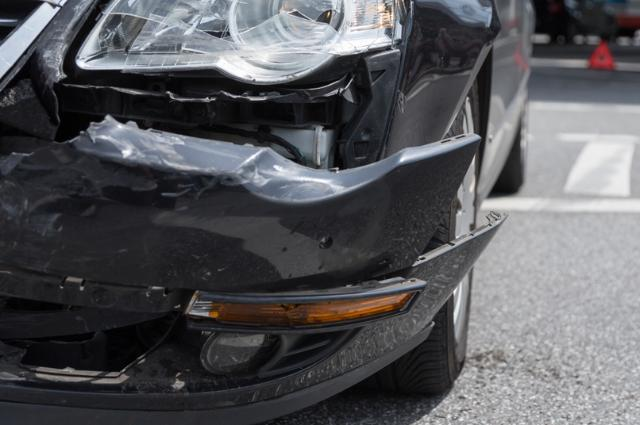Bumper: (0, 105, 595, 416)
Fender: (412, 0, 498, 135)
Light: (71, 0, 413, 74)
